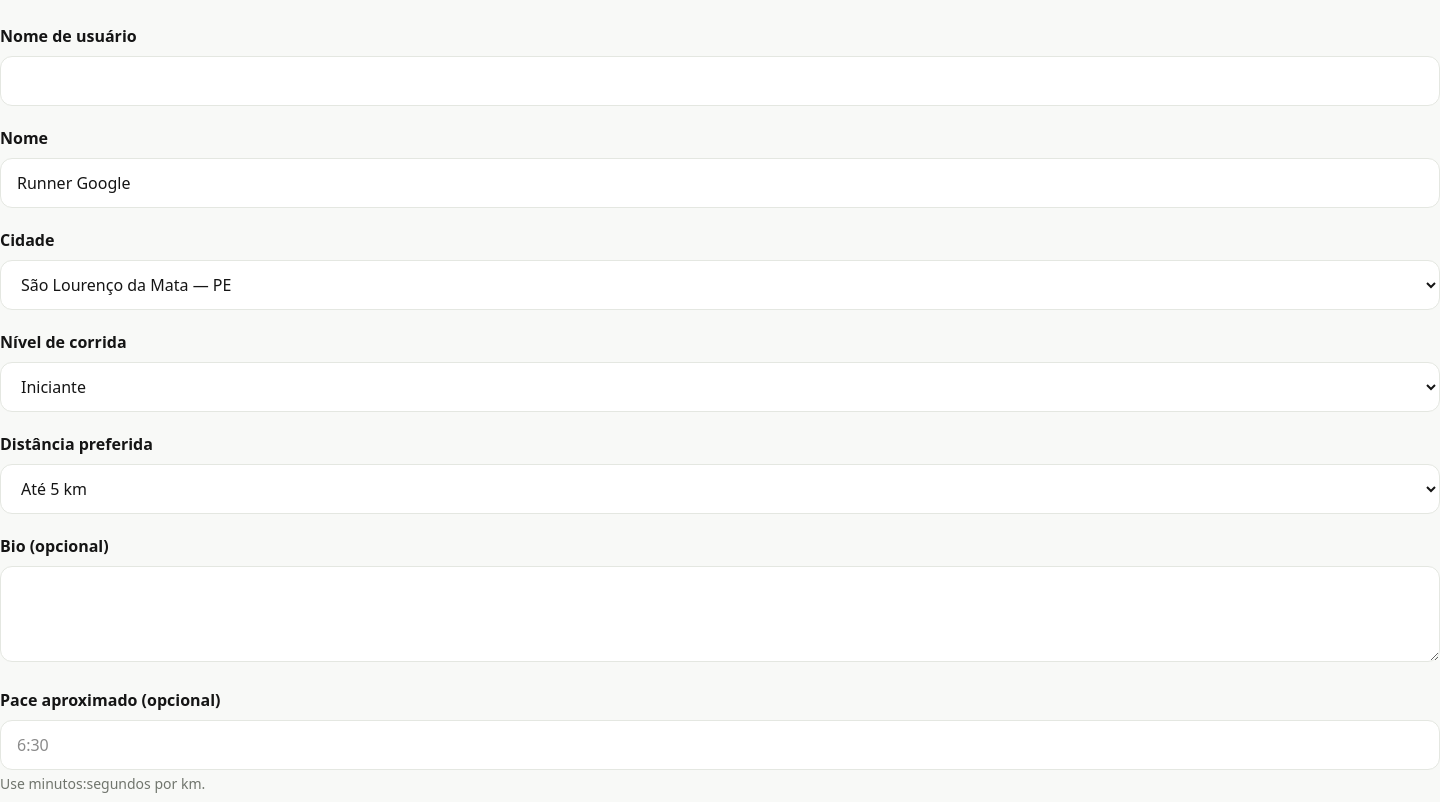
Test: OnboardingForm › preserves values and presents a concurrent username conflict
Type "runner_one" into the field labelled "Nome de usuário".
click(720, 81); type("runner_one")  # box [0,56,1439,106]
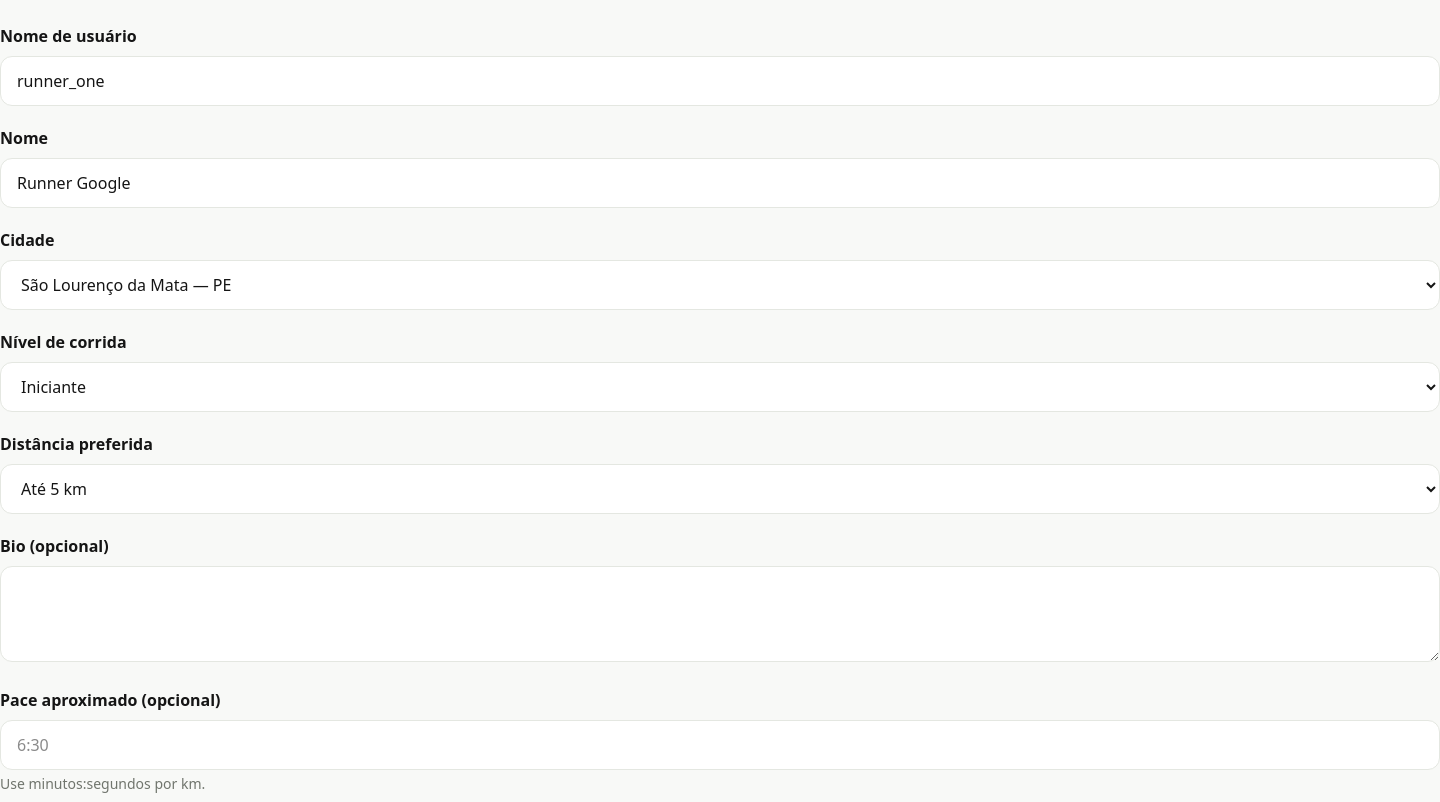
Select "Iniciante" in the dropdown labelled "Nível de corrida" at (720, 387), box [0,362,1439,412]
Select "Até 5 km" in the dropdown labelled "Distância preferida" at (720, 489), box [0,464,1439,514]
(page scrolled)
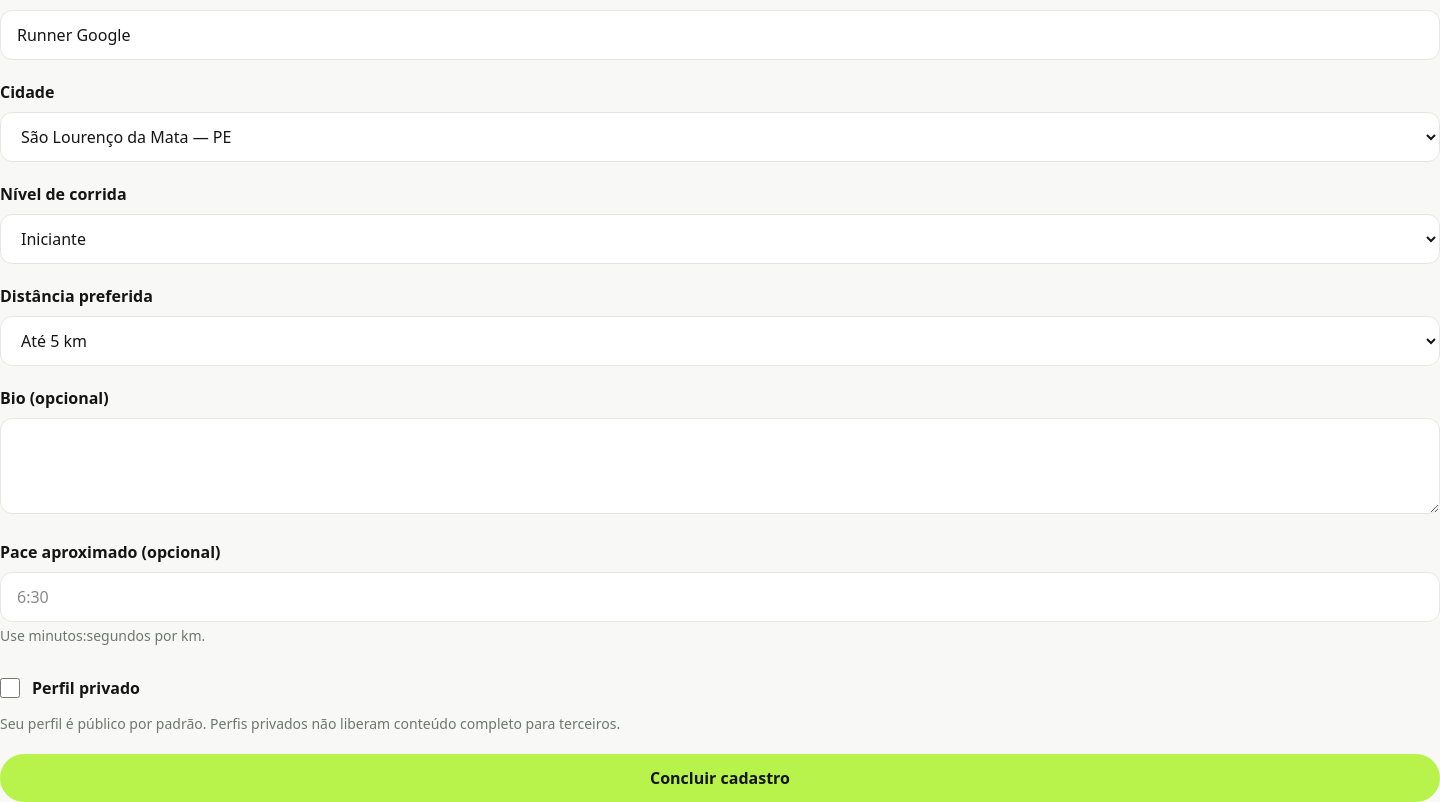
Click the button "Concluir cadastro".
click(720, 778)  # box [0,754,1439,801]
(page scrolled)
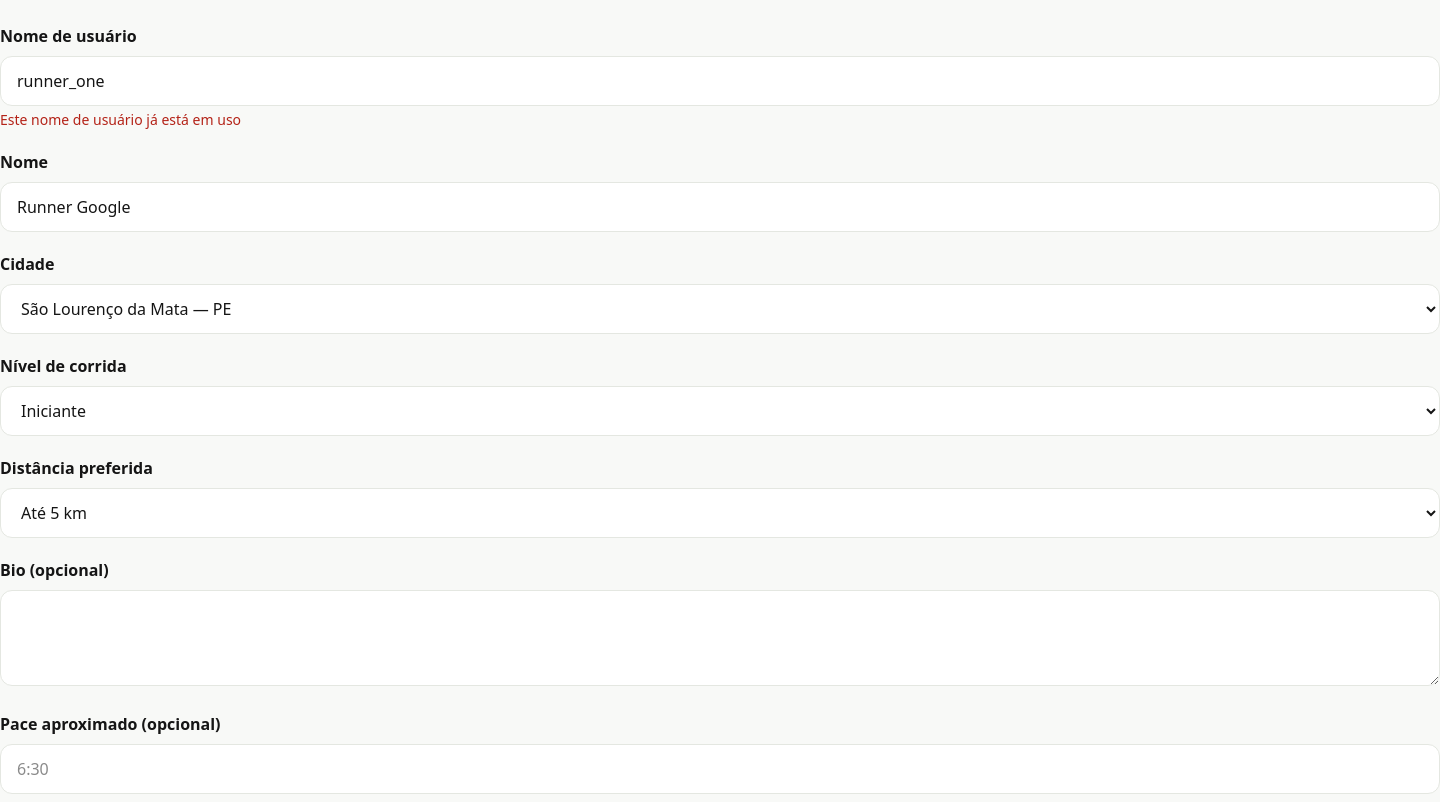
Expected: the text "Este nome de usuário já está em uso" is shown, [0,110,241,129]
